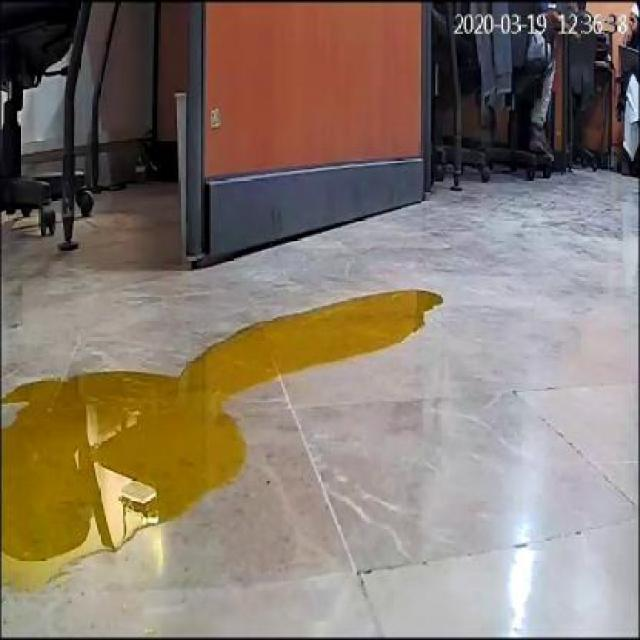spill: (2, 286, 442, 594)
